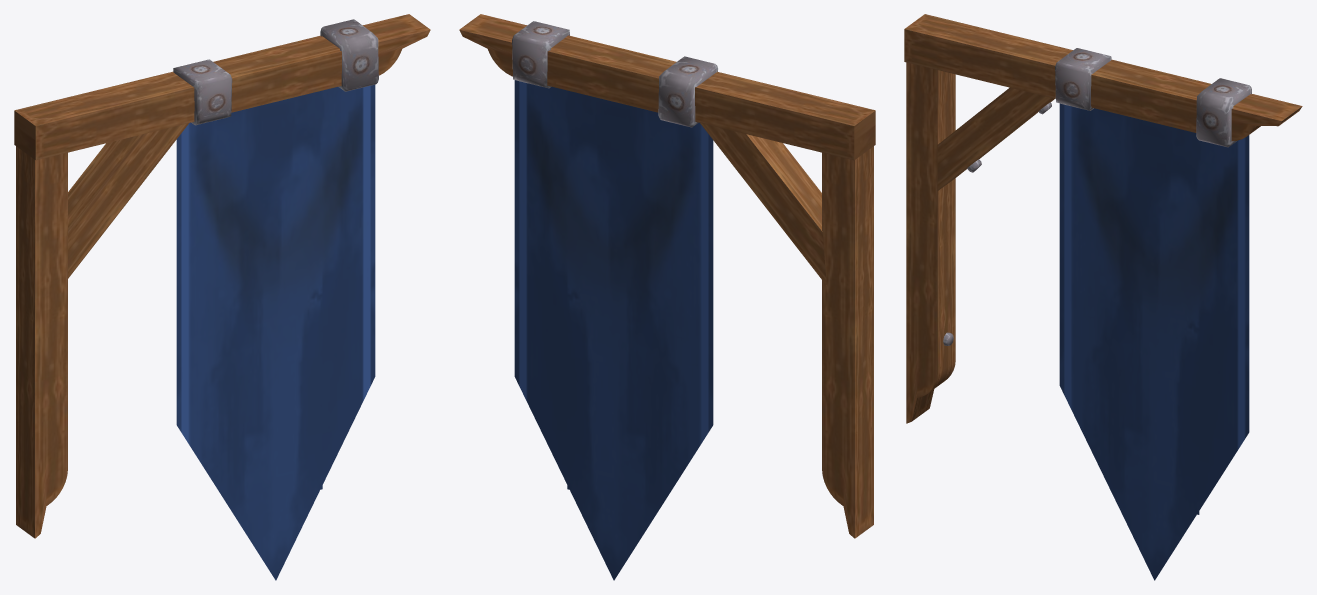
The model's file is prop_banner_2.glb.
The picture shows the model from 3 angles, left to right: view 1: azimuth 30°, elevation 25°; view 2: azimuth 150°, elevation 25°; view 3: azimuth 330°, elevation 25°; orthographic projection. The views are drawn at different scales.
Parts seen in each view (by area): view 1: Cube236_2, Cube236, Cube236_1; view 2: Cube236_2, Cube236, Cube236_1; view 3: Cube236_2, Cube236, Cube236_1.
Boxes of the visible parts, x1=… form: Cube236_2: x1=176, y1=84, x2=375, y2=580; Cube236: x1=14, y1=14, x2=430, y2=538; Cube236_1: x1=173, y1=19, x2=378, y2=125; Cube236_2: x1=514, y1=80, x2=713, y2=580; Cube236: x1=459, y1=14, x2=875, y2=538; Cube236_1: x1=512, y1=21, x2=717, y2=127; Cube236_2: x1=1059, y1=103, x2=1249, y2=580; Cube236: x1=904, y1=14, x2=1302, y2=423; Cube236_1: x1=943, y1=48, x2=1251, y2=345.
Size of the model in its own units: 1.61 by 2.08 by 0.1906.
Materials: 3 (3 with a texture image).
